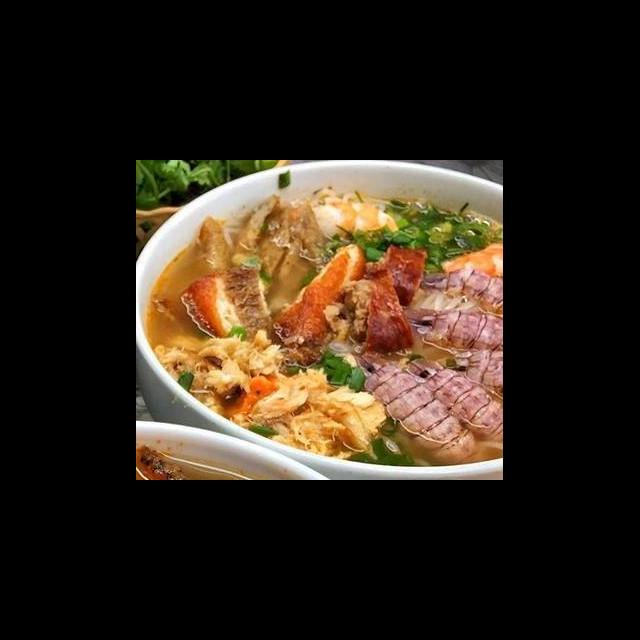tom: (402, 309, 464, 393)
tom tit: (150, 351, 284, 459), (176, 391, 284, 480), (274, 387, 340, 480), (320, 403, 388, 480)
